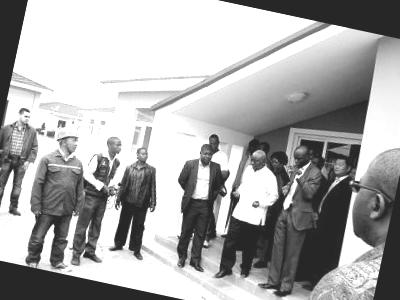no_helmet: (333, 129, 400, 248), (290, 142, 316, 172), (245, 141, 270, 172), (265, 146, 289, 176), (332, 150, 353, 180), (102, 133, 127, 158), (194, 140, 218, 166), (130, 144, 153, 166), (15, 104, 36, 126), (204, 131, 222, 152)
